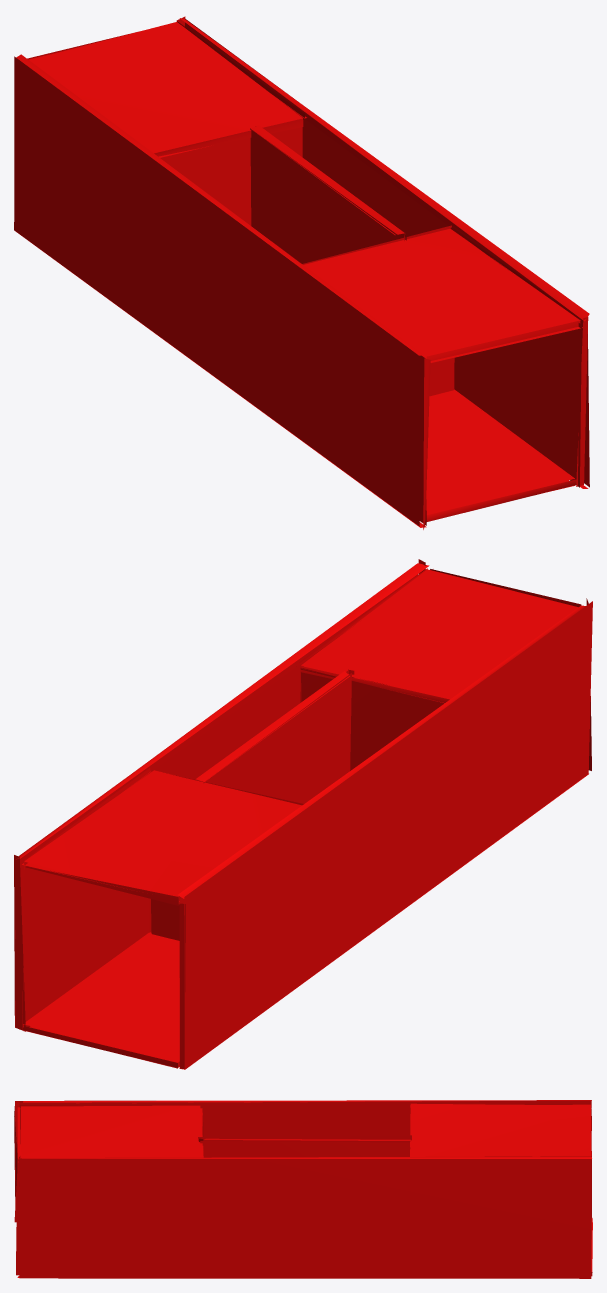
The picture shows the model from 3 angles, top to bottom: view 1: azimuth 30°, elevation 25°; view 2: azimuth 150°, elevation 25°; view 3: azimuth 270°, elevation 25°; orthographic projection. The views are drawn at different scales.
Parts seen in each view (by area): view 1: Renderer Node; view 2: Renderer Node; view 3: Renderer Node.
Part boxes in pixels (x1,y1,x2,y2): Renderer Node: (14,16,589,529); Renderer Node: (14,559,592,1069); Renderer Node: (14,1100,592,1278).
Size of the model in its own units: 0.2309 by 0.2258 by 0.9546.
Materials: 1 (1 with a texture image).
